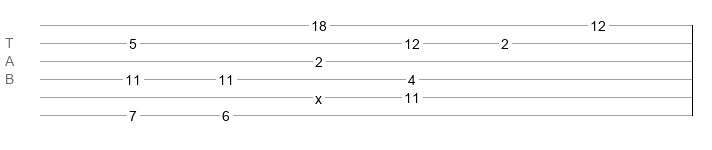11: (125, 72, 141, 82), (218, 72, 234, 82), (404, 90, 420, 100)
12: (404, 36, 420, 46), (590, 18, 606, 28)
18: (311, 18, 327, 28)
2: (315, 54, 323, 64), (501, 36, 509, 46)
4: (408, 72, 416, 82)
5: (129, 36, 137, 46)
6: (222, 108, 230, 118)
7: (129, 108, 137, 118)
x: (315, 91, 322, 99)
